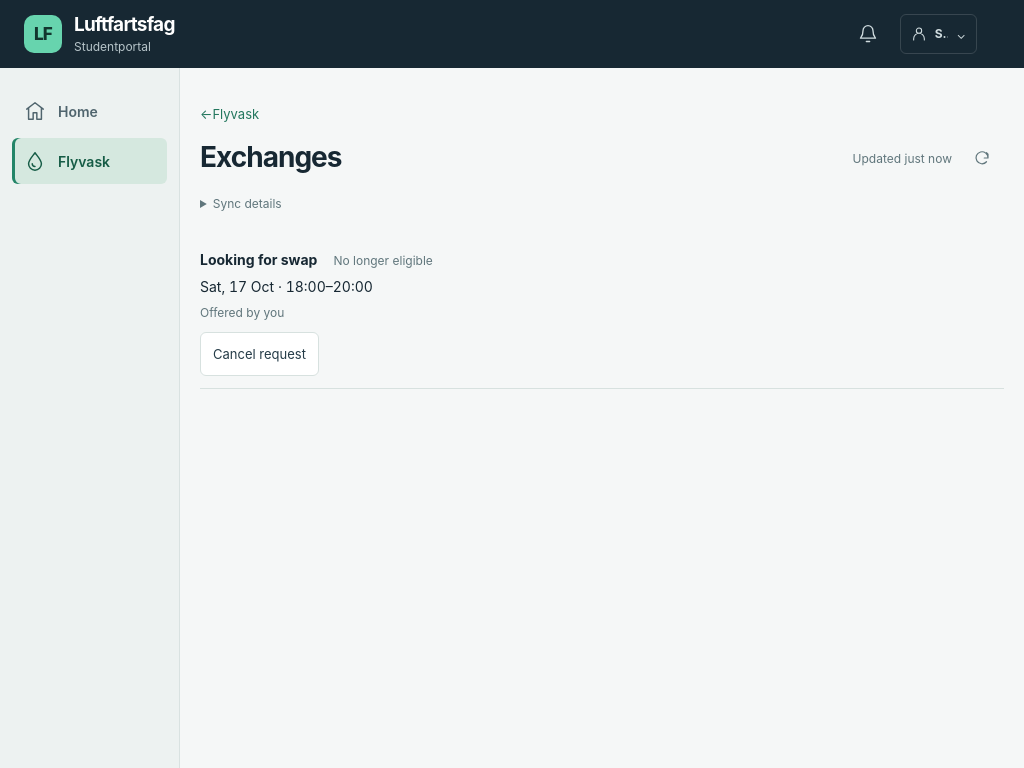
Flyvask direct swap workspace › keeps stale own intent cancellable and excludes completed activity
Check: the number of list items with class "exchange-row" is 1, box [200,239,1004,389]
Click the button "Cancel request": [259, 354] box [200,332,319,376]
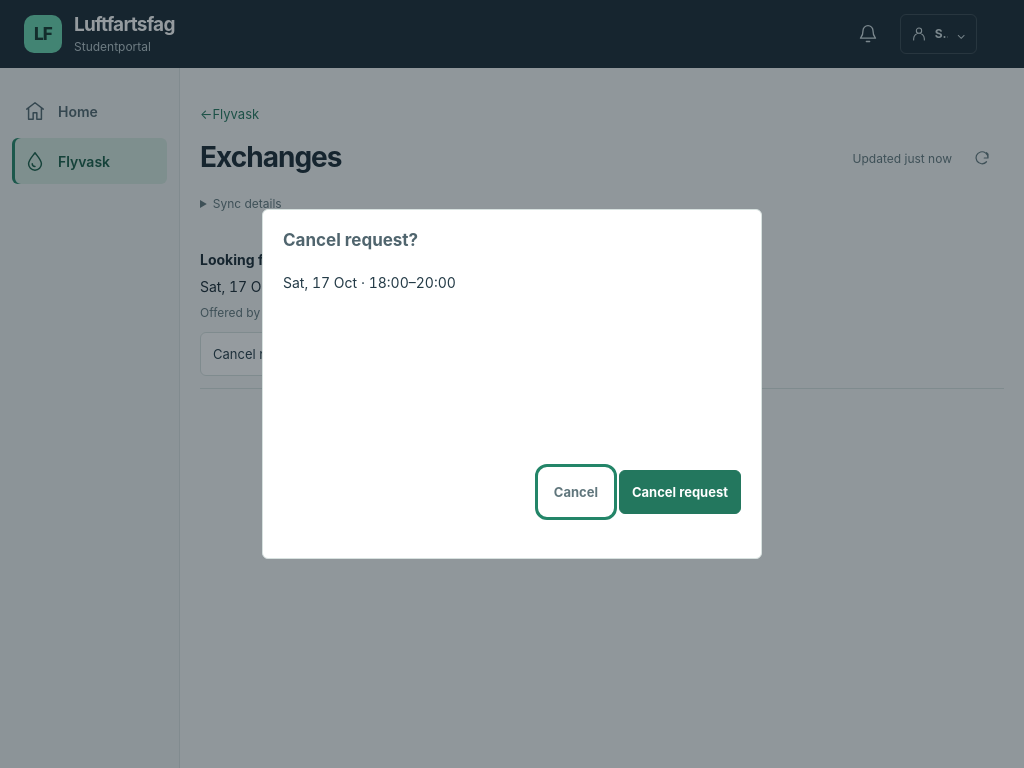
Check: the button "Cancel request" is shown
Check: the button "Cancel request" is enabled
Click the button "Cancel request": [680, 492] box [619,470,741,514]
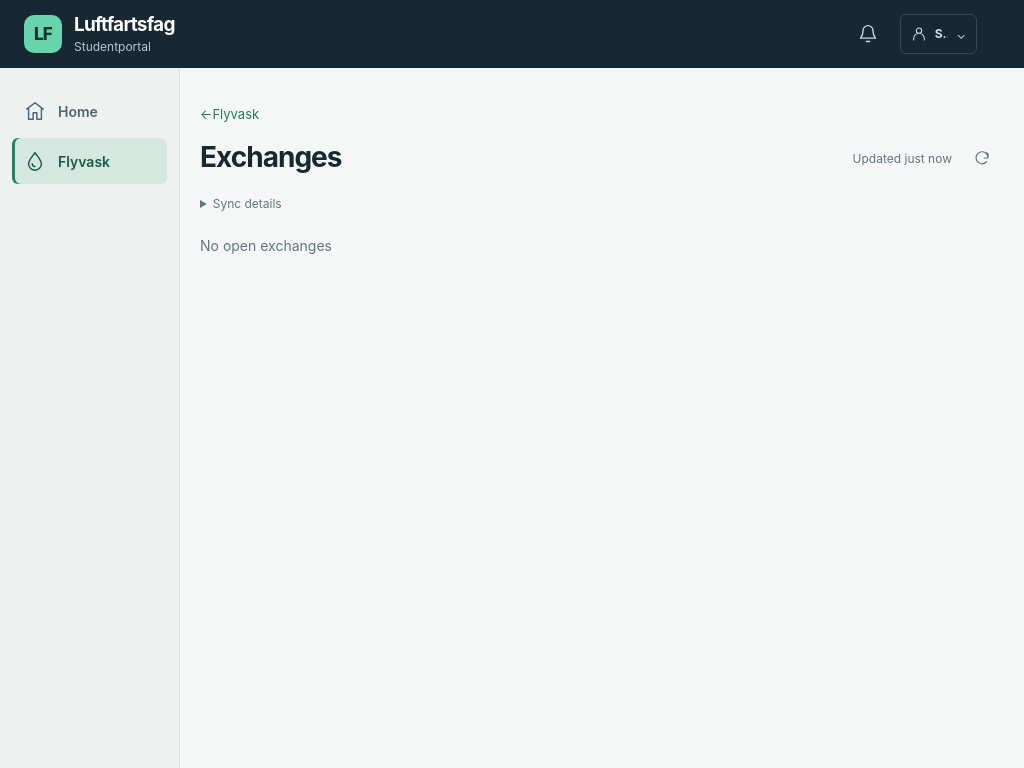
Check: no list items with class "exchange-row" are shown
